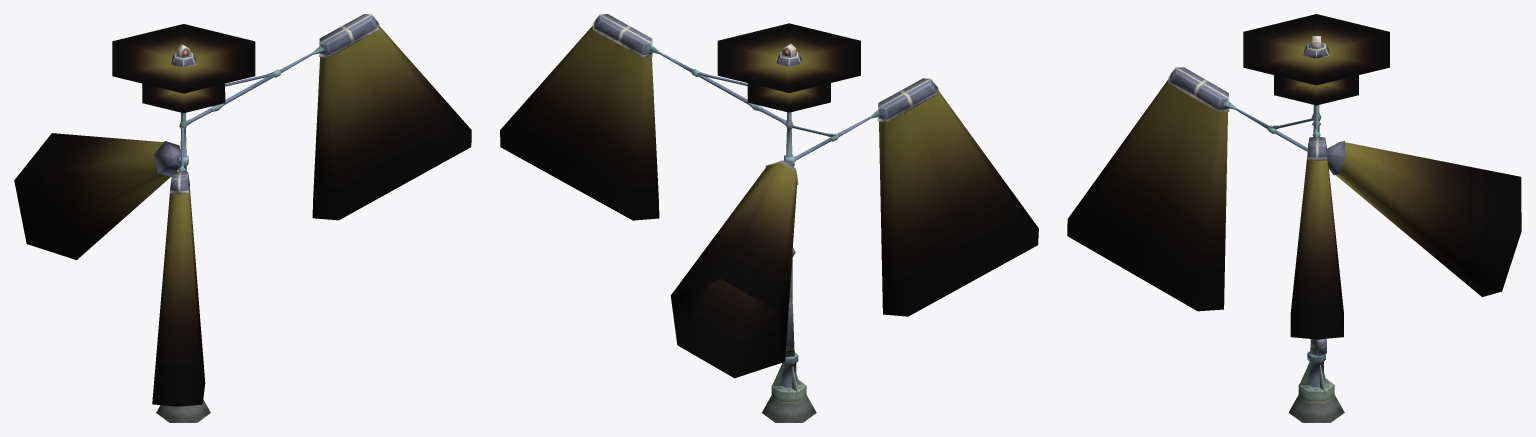
Rendered from obj_madaprlightsmall.glb.
3 views of the same model, side by side, from view 1: azimuth 30°, elevation 25°; view 2: azimuth 150°, elevation 25°; view 3: azimuth 270°, elevation 25° (orthographic). The views are drawn at different scales.
Visible parts, largest first — view 1: part_1, part_0; view 2: part_1, part_0; view 3: part_1, part_0.
Part boxes in pixels (left/top/right/bottom): part_1: left=14, top=24, right=471, bottom=406; part_0: left=154, top=14, right=379, bottom=422; part_1: left=500, top=23, right=1038, bottom=378; part_0: left=592, top=14, right=938, bottom=422; part_1: left=1067, top=14, right=1521, bottom=339; part_0: left=1168, top=36, right=1345, bottom=422.
Size of the model in its own units: 7.29 by 5.97 by 6.53.
3 materials, 3 textured.
